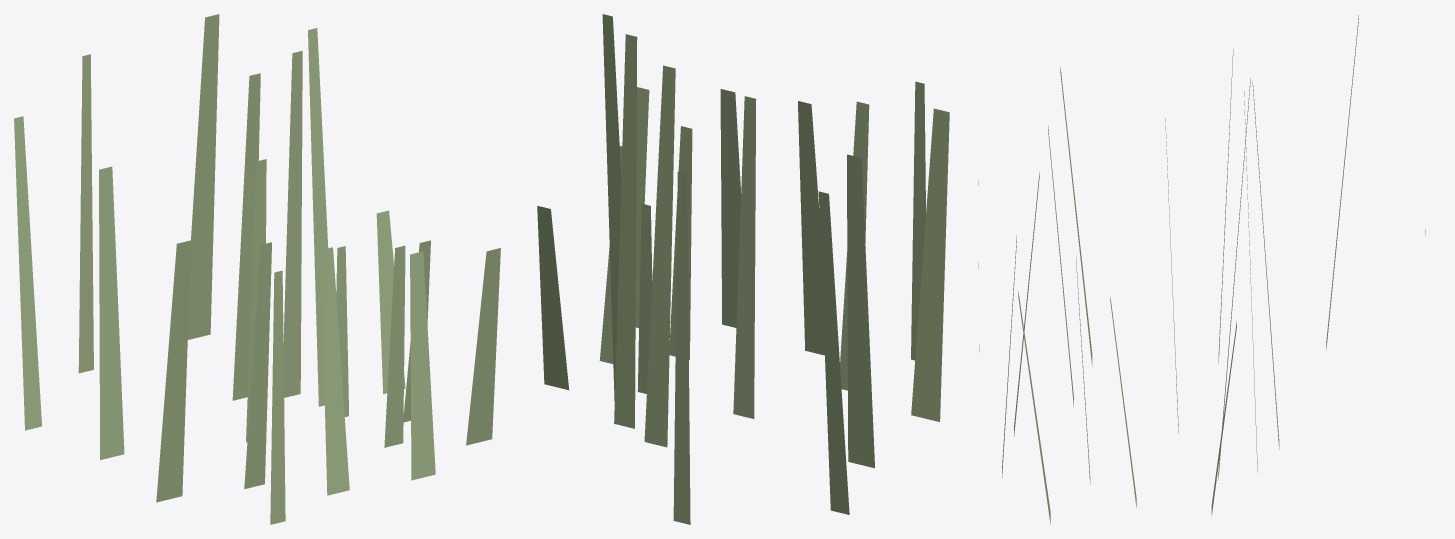
The model's file is wetland_cluster.glb.
3 views of the same model, side by side, from view 1: azimuth 30°, elevation 25°; view 2: azimuth 150°, elevation 25°; view 3: azimuth 270°, elevation 25° (orthographic). The views are drawn at different scales.
Visible parts, largest first — view 1: reeds; view 2: reeds; view 3: reeds.
Part boxes in pixels (x1,y1,x2,y2): reeds: (14,14,500,524); reeds: (537,14,949,524); reeds: (978,15,1425,524).
Bounding box in the file's own units: 1.57 × 1.6 × 1.67.
